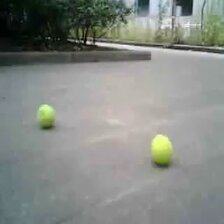tennis: (149, 134, 172, 165), (38, 105, 56, 128)
